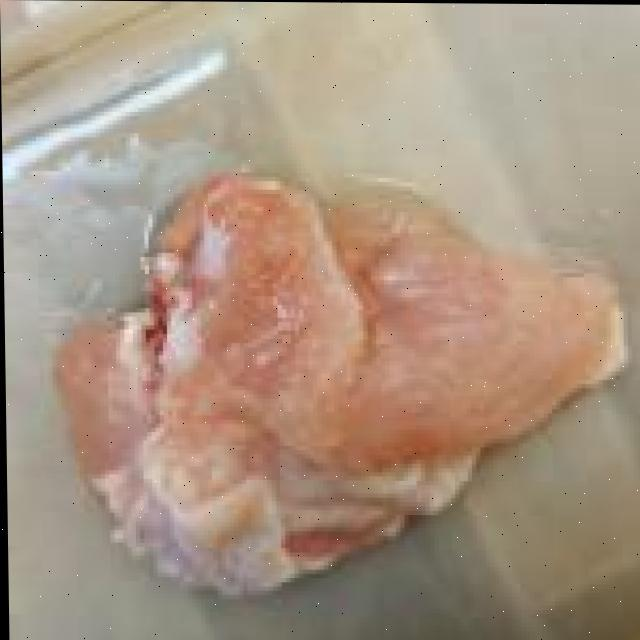breast: (52, 166, 634, 586)
